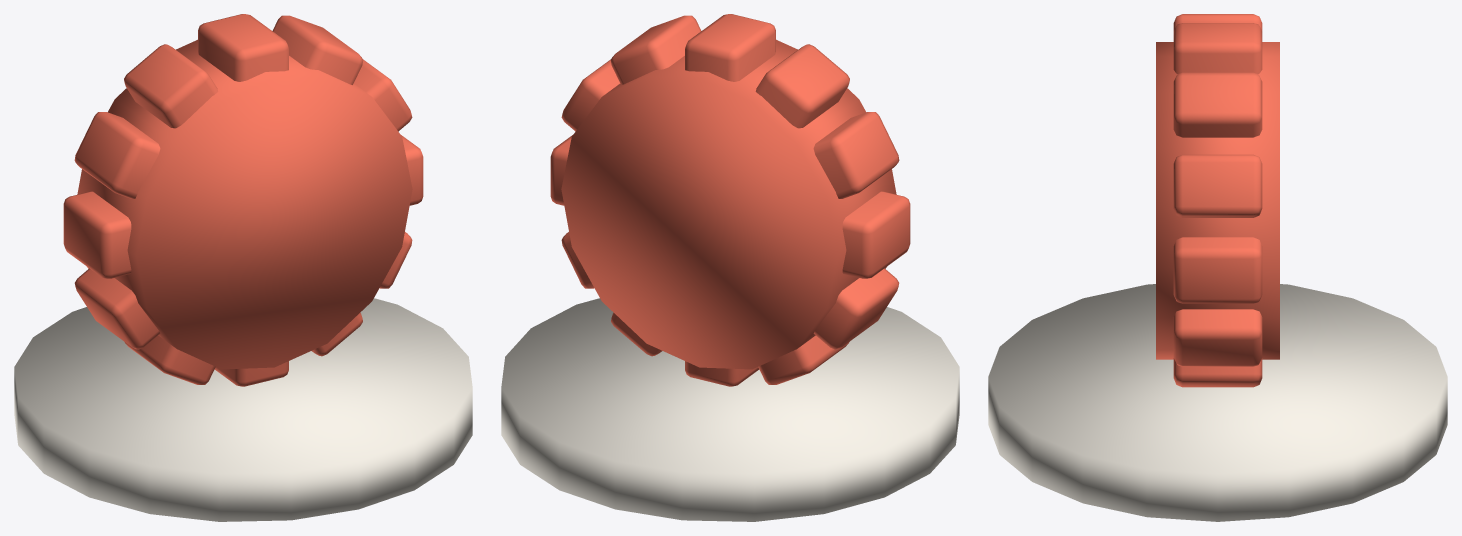
File: Diagram_ProcessNode.fbx
The picture shows the model from 3 angles, left to right: view 1: azimuth 30°, elevation 25°; view 2: azimuth 150°, elevation 25°; view 3: azimuth 270°, elevation 25°; orthographic projection.
Parts seen in each view (by area): view 1: Node_Plinth, Process_Core, Process_Tooth_1, Process_Tooth_4, Process_Tooth_3, Process_Tooth_2, Process_Tooth_6, Process_Tooth_5; view 2: Node_Plinth, Process_Core, Process_Tooth_1, Process_Tooth_4, Process_Tooth_3, Process_Tooth_2, Process_Tooth_6, Process_Tooth_5; view 3: Node_Plinth, Process_Core, Process_Tooth_1, Process_Tooth_5, Process_Tooth_6, Process_Tooth_2, Process_Tooth_4, Process_Tooth_3.
Part boxes in pixels (x1,y1,x2,y2): Node_Plinth: (14,298,472,521); Process_Core: (77,39,412,369); Process_Tooth_1: (63,135,423,278); Process_Tooth_4: (198,14,288,386); Process_Tooth_3: (124,44,362,356); Process_Tooth_2: (74,112,412,288); Process_Tooth_6: (74,59,412,349); Process_Tooth_5: (124,15,362,384); Node_Plinth: (501,298,959,521); Process_Core: (561,39,896,369); Process_Tooth_1: (550,135,910,278); Process_Tooth_4: (685,14,775,386); Process_Tooth_3: (611,44,849,356); Process_Tooth_2: (561,112,899,288); Process_Tooth_6: (561,59,899,349); Process_Tooth_5: (611,15,849,384); Node_Plinth: (988,284,1447,521); Process_Core: (1156,42,1279,359); Process_Tooth_1: (1173,237,1262,303); Process_Tooth_5: (1173,72,1262,137); Process_Tooth_6: (1173,154,1262,217); Process_Tooth_2: (1173,309,1262,366); Process_Tooth_4: (1173,23,1262,73); Process_Tooth_3: (1173,14,1262,387).
Bounding box in the file's own units: 5.2 × 4.9 × 5.2.
